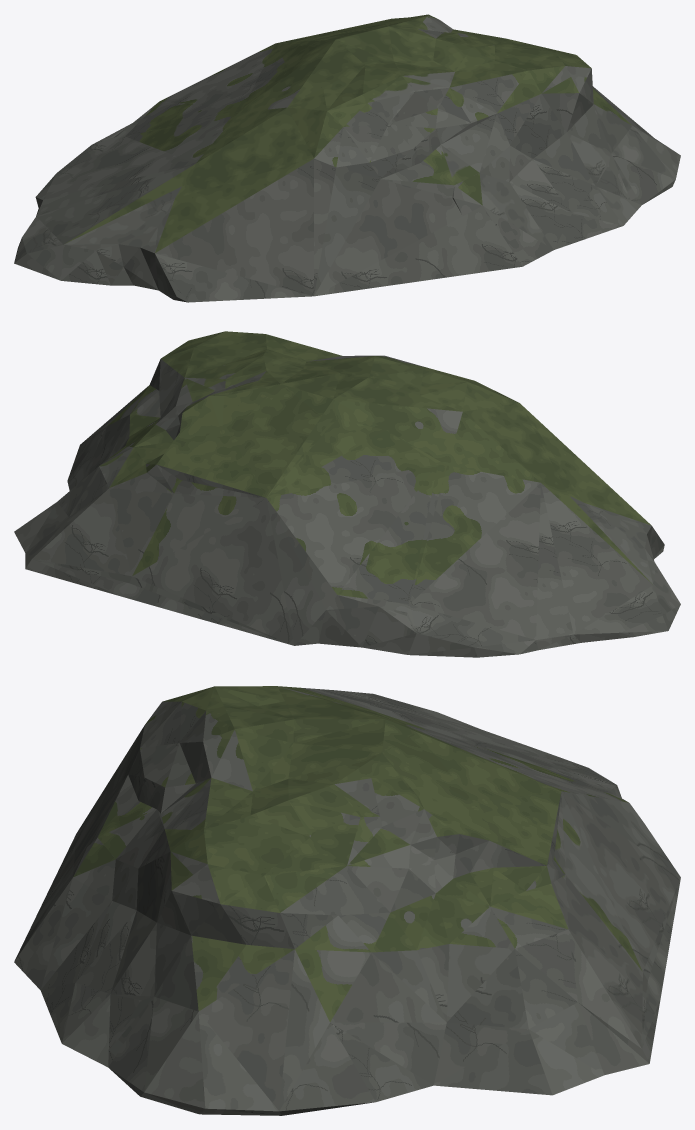
File: redwood_slab1_v1.fbx
The picture shows the model from 3 angles, top to bottom: view 1: azimuth 30°, elevation 25°; view 2: azimuth 150°, elevation 25°; view 3: azimuth 270°, elevation 25°; orthographic projection. The views are drawn at different scales.
Parts seen in each view (by area): view 1: redwood_slab1_v1_s1_lod0, redwood_slab1_v1_s2_lod0, redwood_slab1_v1_s4_lod0, redwood_slab1_v1_s3_lod0, redwood_slab1_v1_s0_lod0; view 2: redwood_slab1_v1_s0_lod0, redwood_slab1_v1_s4_lod0, redwood_slab1_v1_s3_lod0, redwood_slab1_v1_s2_lod0, redwood_slab1_v1_s1_lod0; view 3: redwood_slab1_v1_s3_lod0, redwood_slab1_v1_s2_lod0, redwood_slab1_v1_s0_lod0, redwood_slab1_v1_s1_lod0, redwood_slab1_v1_s4_lod0.
Part boxes in pixels (x1=…): redwood_slab1_v1_s1_lod0: x1=140, y1=84, x2=496, y2=302; redwood_slab1_v1_s2_lod0: x1=275, y1=18, x2=637, y2=270; redwood_slab1_v1_s4_lod0: x1=14, y1=108, x2=242, y2=286; redwood_slab1_v1_s3_lod0: x1=364, y1=14, x2=680, y2=209; redwood_slab1_v1_s0_lod0: x1=105, y1=24, x2=374, y2=137; redwood_slab1_v1_s0_lod0: x1=122, y1=416, x2=437, y2=653; redwood_slab1_v1_s4_lod0: x1=402, y1=464, x2=680, y2=657; redwood_slab1_v1_s3_lod0: x1=14, y1=331, x2=229, y2=596; redwood_slab1_v1_s2_lod0: x1=222, y1=331, x2=423, y2=437; redwood_slab1_v1_s1_lod0: x1=415, y1=367, x2=664, y2=558; redwood_slab1_v1_s3_lod0: x1=98, y1=797, x2=660, y2=1115; redwood_slab1_v1_s2_lod0: x1=14, y1=697, x2=478, y2=1062; redwood_slab1_v1_s0_lod0: x1=360, y1=708, x2=680, y2=996; redwood_slab1_v1_s1_lod0: x1=22, y1=686, x2=372, y2=945; redwood_slab1_v1_s4_lod0: x1=302, y1=688, x2=621, y2=797.
Size of what is drawn, in the model's own units: 909 by 211 by 615.
